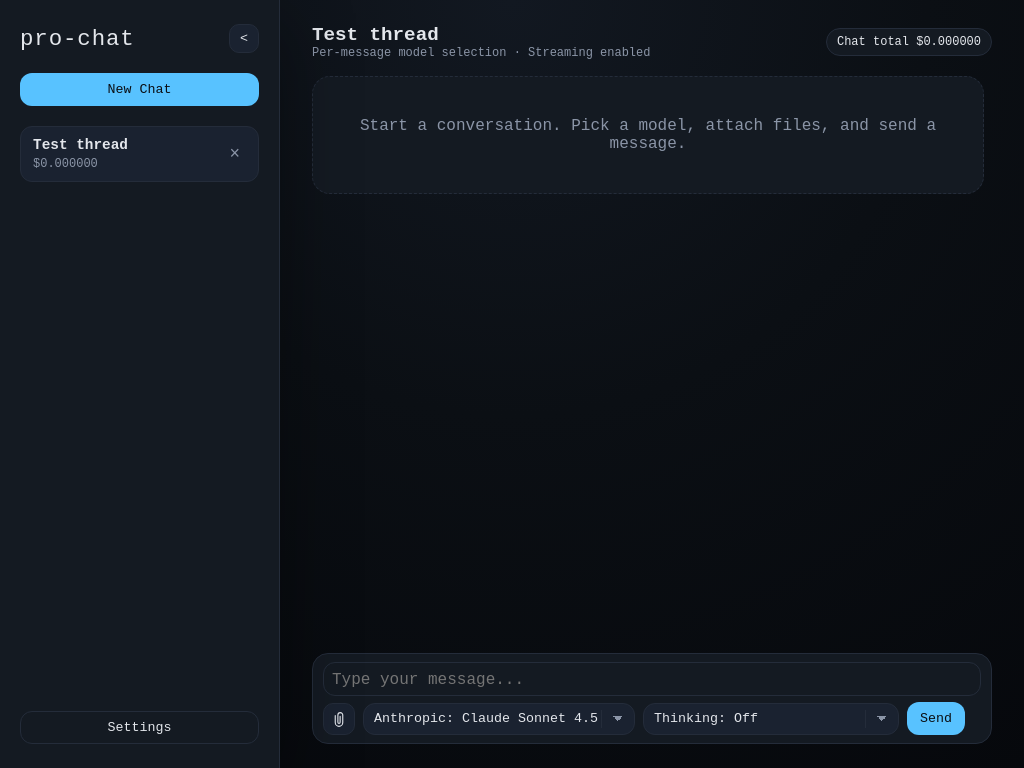
Scenario: App › keeps messages visible after starting a new chat and sending
The width and height of the screenshot is (1024, 768).
Click the button "New Chat" at {"x": 140, "y": 90}, box [20,73,259,106]
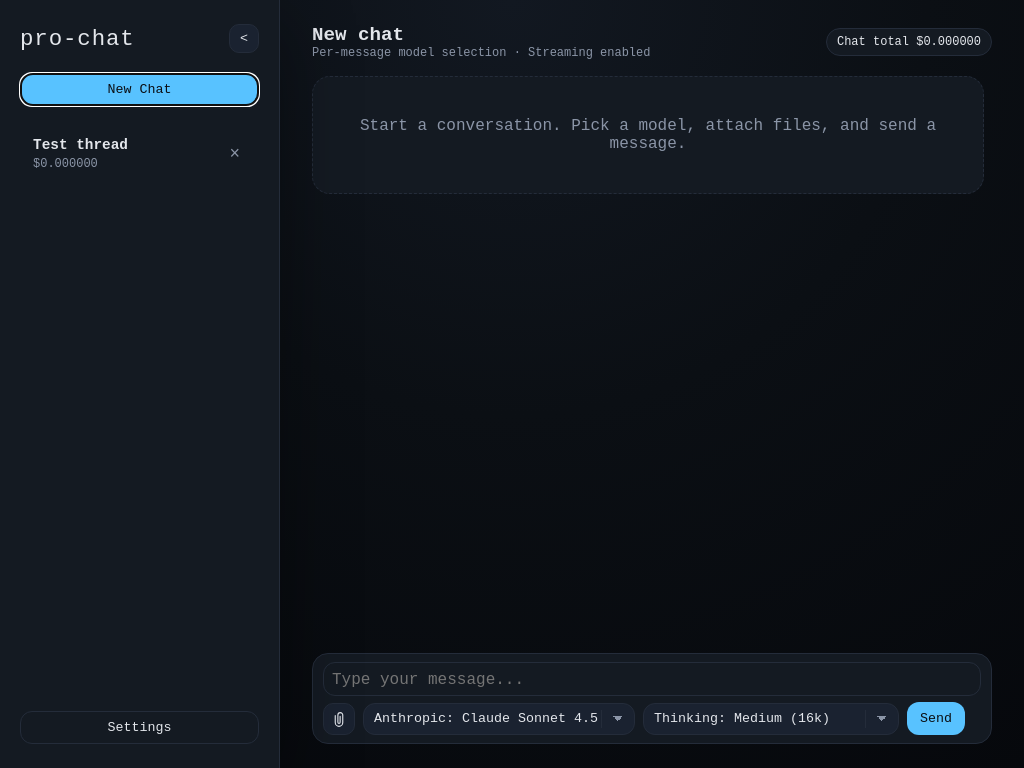
Type "Hello there" into the text box with placeholder "Type your message..." at {"x": 652, "y": 679}, box [323,662,981,696]
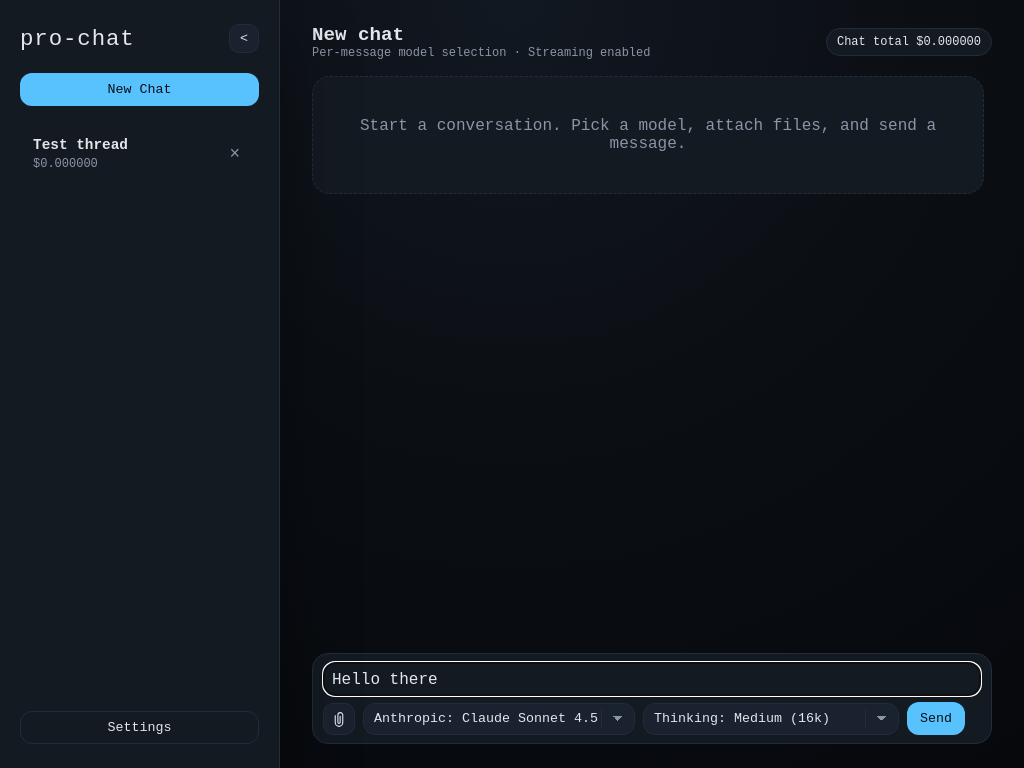
Press Enter
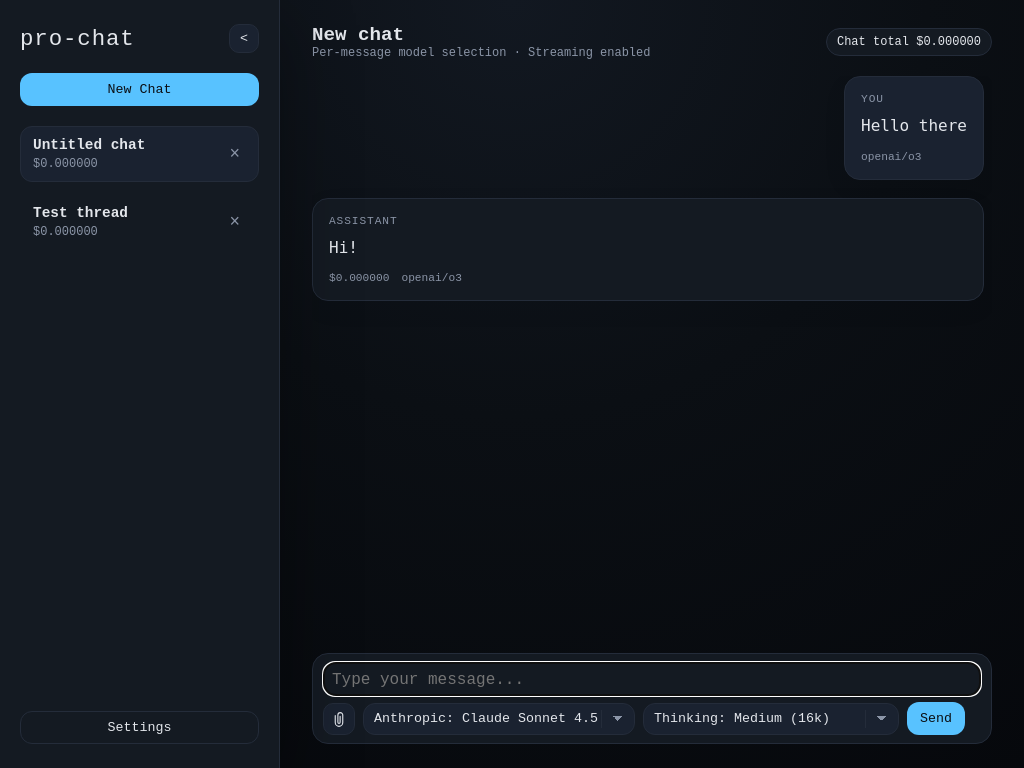
Expected: the text "Hello there" is shown, [861,116,967,135]
